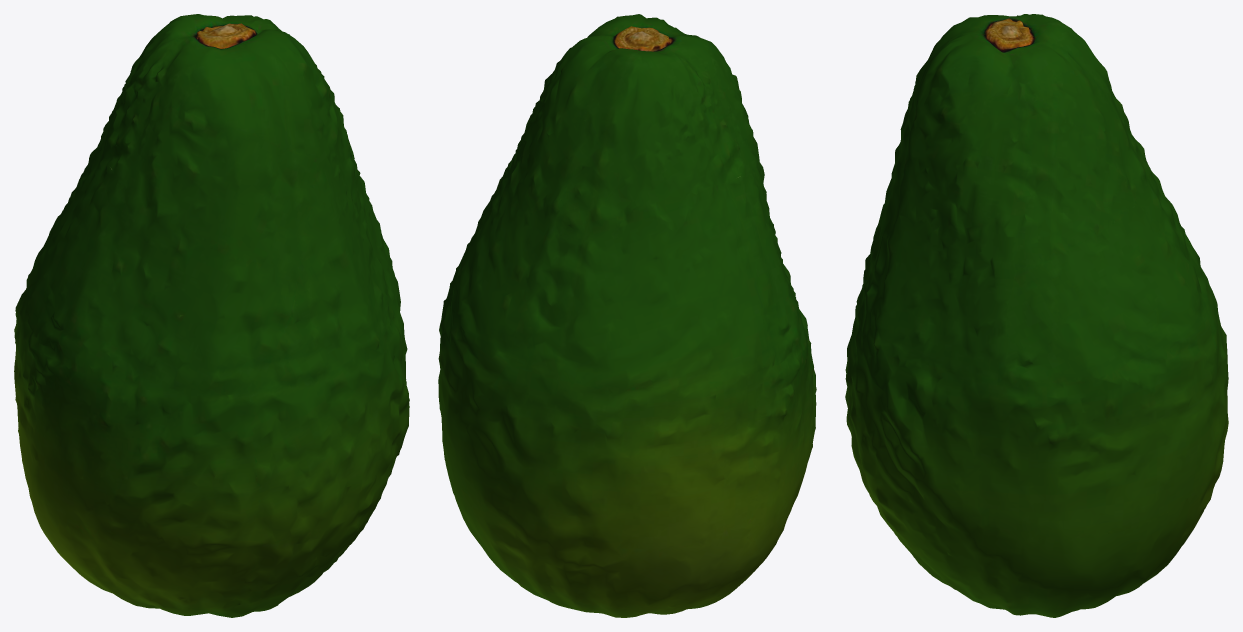
Rendered from avocado.glb.
The picture shows the model from 3 angles, left to right: view 1: azimuth 30°, elevation 25°; view 2: azimuth 150°, elevation 25°; view 3: azimuth 270°, elevation 25°; orthographic projection. The views are drawn at different scales.
Parts seen in each view (by area): view 1: tripo_node_cd88536f-2c1d-4a23-8f22-59b244ed770d; view 2: tripo_node_cd88536f-2c1d-4a23-8f22-59b244ed770d; view 3: tripo_node_cd88536f-2c1d-4a23-8f22-59b244ed770d.
Part boxes in pixels (left/top/right/bottom): tripo_node_cd88536f-2c1d-4a23-8f22-59b244ed770d: left=14, top=14, right=409, bottom=617; tripo_node_cd88536f-2c1d-4a23-8f22-59b244ed770d: left=438, top=14, right=816, bottom=617; tripo_node_cd88536f-2c1d-4a23-8f22-59b244ed770d: left=845, top=14, right=1228, bottom=617.
Bounding box in the file's own units: 0.6324 × 1 × 0.6173.
1 material, 1 textured.
